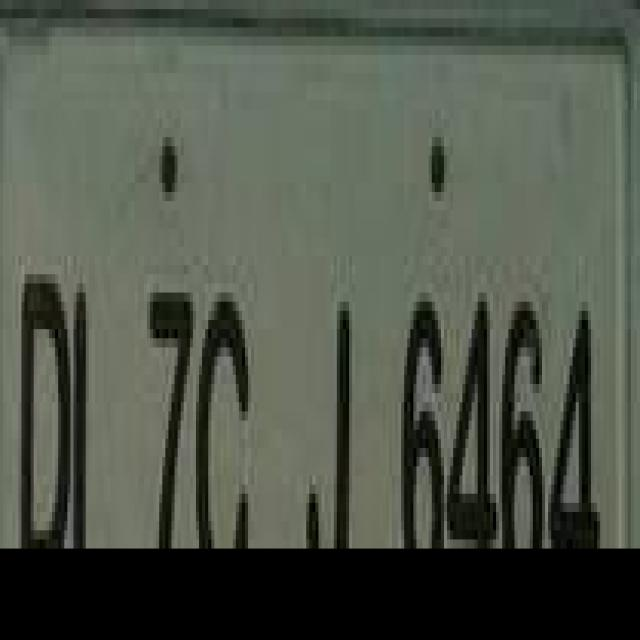license_plate: (0, 46, 616, 585)
